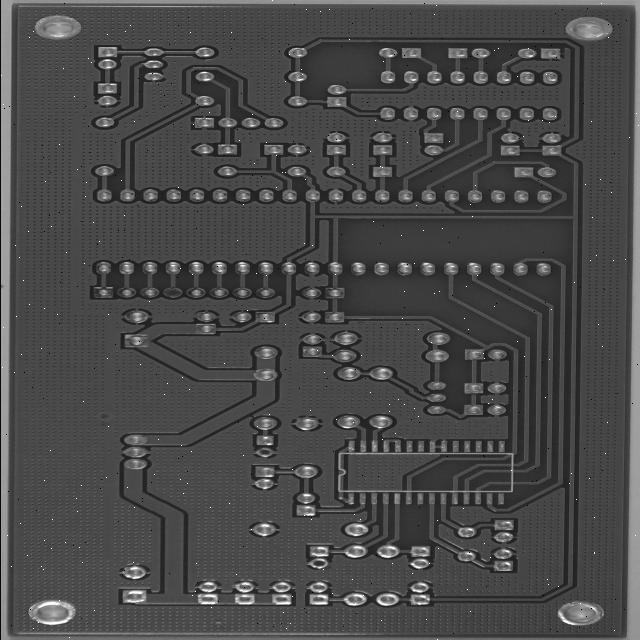missing_hole: (361, 554, 394, 567), (300, 438, 328, 448), (194, 270, 218, 281)
